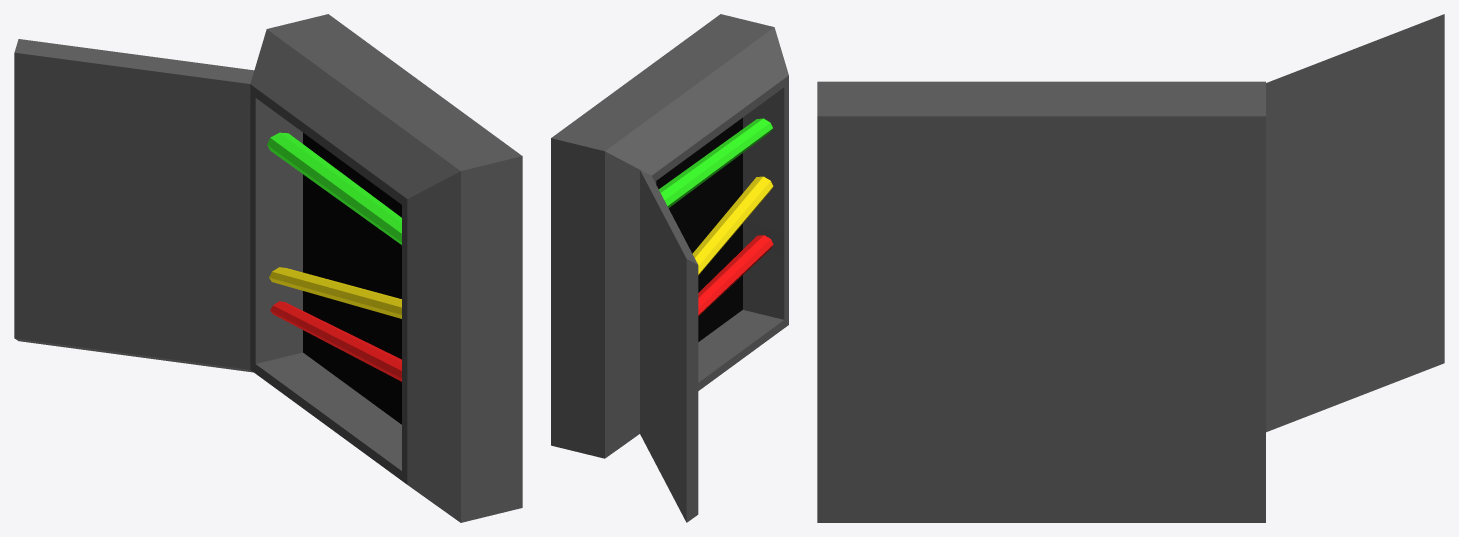
The model's file is SM_Fios_Consertados.fbx.
The picture shows the model from 3 angles, left to right: view 1: azimuth 30°, elevation 25°; view 2: azimuth 150°, elevation 25°; view 3: azimuth 270°, elevation 25°; orthographic projection. The views are drawn at different scales.
Visible parts, largest first — view 1: Cube.003; view 2: Cube.003; view 3: Cube.003.
Part boxes in pixels (box(x1,y1,x2,y2)): Cube.003: box(14, 14, 522, 522); Cube.003: box(551, 14, 788, 522); Cube.003: box(817, 14, 1444, 522).
Bounding box in the file's own units: 144 × 200 × 280.
